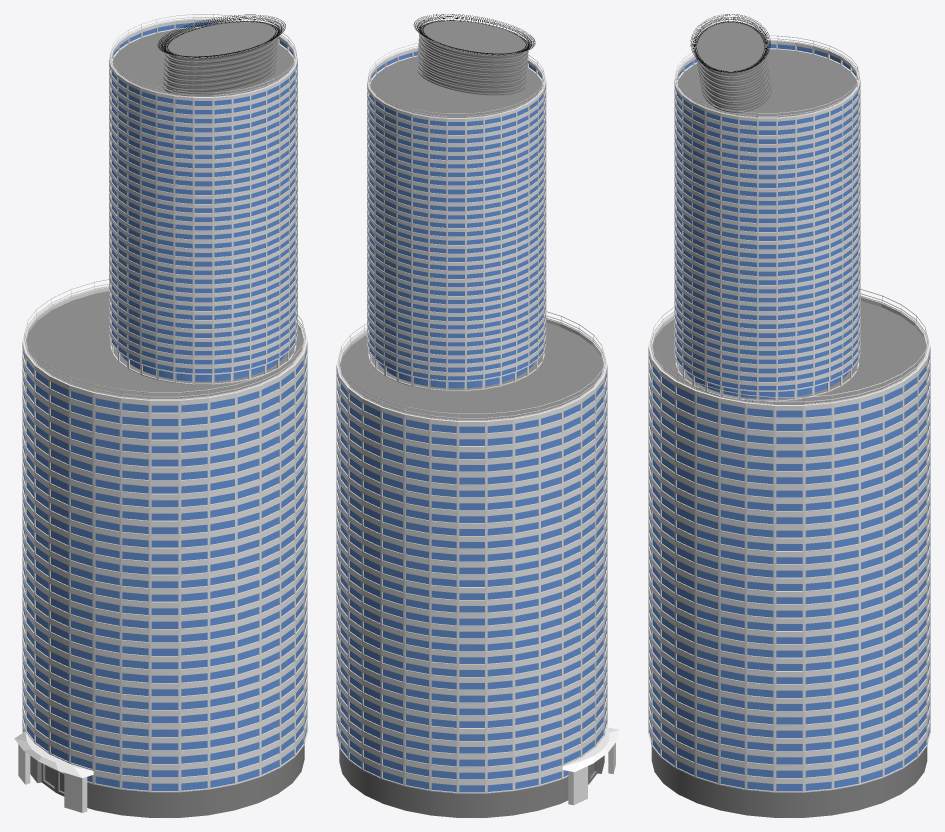
File: Building.FBX
3 renders of one model, left to right at view 1: azimuth 30°, elevation 25°; view 2: azimuth 150°, elevation 25°; view 3: azimuth 270°, elevation 25°, orthographic. The views are drawn at different scales.
Parts seen in each view (by area): view 1: Object063, Tube064, Tube063, Tube004, Tube032, Cylinder009, Tube022, Tube024, Tube026, Tube020, Tube028, Tube018 (+123 smaller); view 2: Object063, Tube063, Tube064, Tube004, Tube032, Cylinder009, Tube030, Tube008, Tube015, Tube019, Tube026, Tube009 (+123 smaller); view 3: Tube063, Tube064, Object063, Tube032, Cylinder009, Tube023, Tube015, Tube018, Tube026, Tube014, Tube020, Tube006 (+116 smaller).
Boxes of the visible parts, x1,y1,x2,y2 form: Object063: (26, 291, 303, 398); Tube064: (30, 745, 304, 817); Tube063: (109, 19, 297, 106); Tube004: (14, 720, 307, 812); Tube032: (22, 285, 307, 414); Cylinder009: (164, 21, 278, 63); Tube022: (22, 477, 307, 549); Tube024: (22, 450, 307, 522); Tube026: (22, 423, 307, 495); Tube020: (22, 504, 307, 576); Tube028: (22, 396, 307, 468); Tube018: (22, 531, 307, 603); Object063: (340, 322, 603, 420); Tube063: (367, 47, 546, 127); Tube064: (339, 749, 604, 817); Tube004: (336, 724, 619, 805); Tube032: (336, 317, 607, 434); Cylinder009: (419, 20, 528, 60); Tube030: (336, 391, 607, 460); Tube008: (336, 673, 607, 742); Tube015: (336, 583, 607, 652); Tube019: (336, 532, 607, 601); Tube026: (336, 442, 607, 511); Tube009: (336, 660, 607, 729); Tube063: (674, 40, 860, 127); Tube064: (651, 746, 927, 817); Object063: (652, 301, 926, 404); Tube032: (648, 295, 930, 419); Cylinder009: (695, 21, 767, 78); Tube023: (648, 467, 930, 539); Tube015: (648, 573, 930, 645); Tube018: (648, 533, 930, 605); Tube026: (648, 427, 930, 499); Tube014: (648, 587, 930, 659); Tube020: (648, 507, 930, 579); Tube006: (648, 693, 930, 765).
Size of the model in its own units: 83.39 by 228 by 80.
